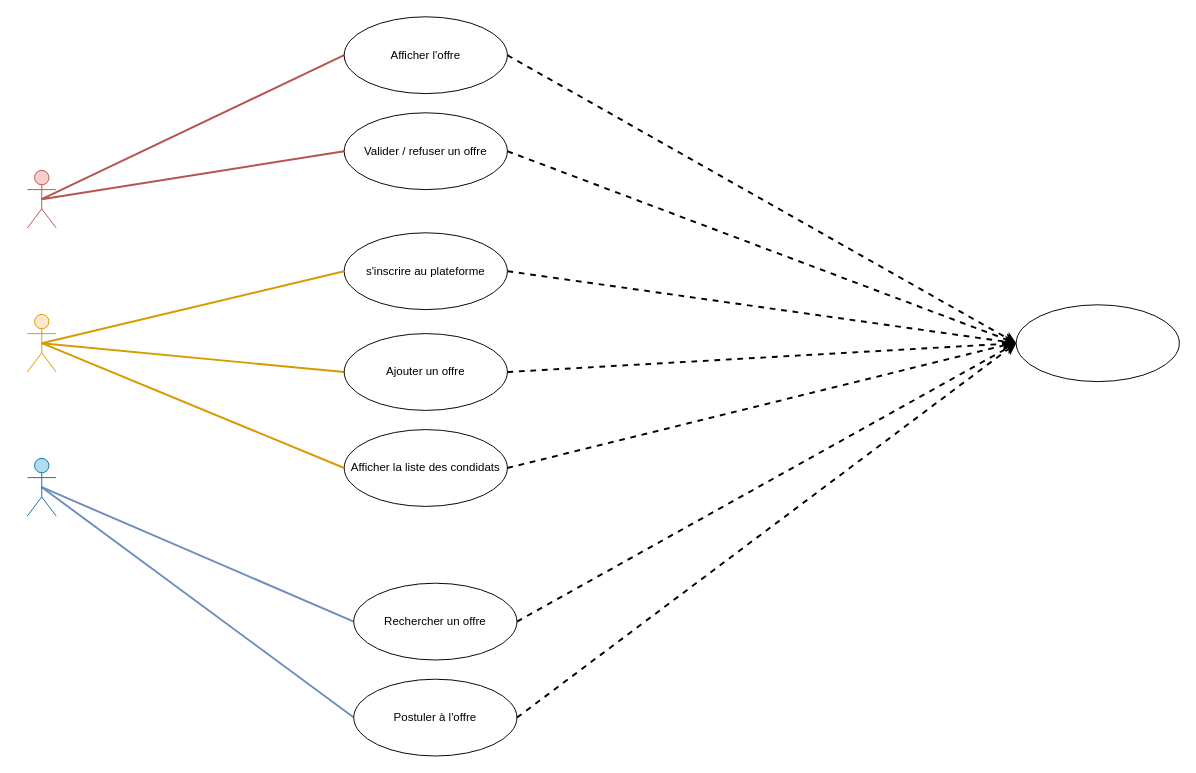
Some shapes in this 1196 by 773 pixel diagram are drawn without their labels. Each missing label, with the centre of its shape:
"Agent" goes at [41,198].
"Condidat" goes at [41,486].
"Connexion au compte" goes at [1097,343].
"Recruteur" goes at [41,342].
